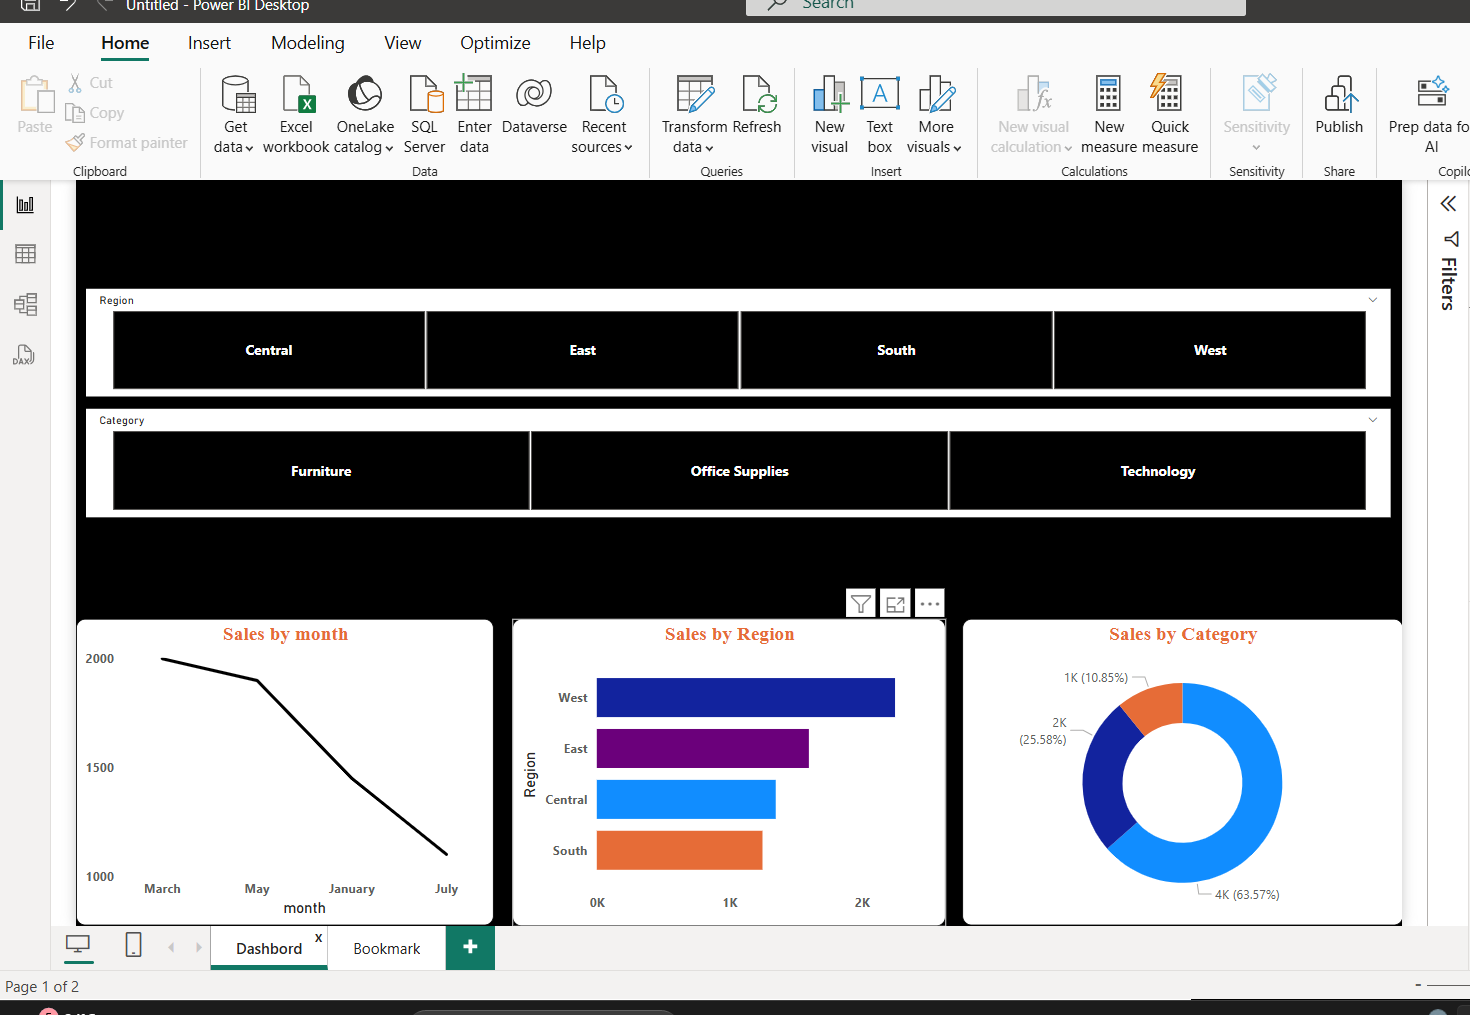

This screenshot's page, from the dashboard's own definition file:
{"tool":"powerbi","page":{"name":"Dashbord","canvas":[1280,720],"ordinal":0},"visuals":[{"type":"lineChart","title":"Sales by month","fields":{"Y":["Sum(Supersale_store.Sales)"],"Category":["Supersale_store.month"]},"box":[0,424,403.4,296.4],"z":0},{"type":"barChart","title":"Sales by Region","fields":{"Category":["Supersale_store.Region"],"Y":["Sum(Supersale_store.Sales)"],"Series":["Supersale_store.Region"]},"box":[421,423.5,418.6,296.8],"z":1000},{"type":"donutChart","title":"Sales by Category","fields":{"Y":["Sum(Supersale_store.Sales)"],"Category":["Supersale_store.Category"],"Series":["Supersale_store.Category"]},"box":[854.9,424,425.4,296.4],"z":2000},{"type":"slicer","fields":{"Values":["Supersale_store.Region"]},"box":[9.7,105,1259.5,103.8],"z":3000},{"type":"slicer","fields":{"Values":["Supersale_store.Category"]},"box":[9.7,220.8,1259.5,105],"z":4000}]}

Visuals, with their boxes on the page's 1280x720 design canvas (x1, y1, x2, y2). These are canvas units, not pixel positions in the 1470x1015 screenshot, which may show the page scaled, cropped or inside an application window:
"Sales by month" lineChart: 0, 424, 403, 720
"Sales by Region" barChart: 421, 424, 840, 720
"Sales by Category" donutChart: 855, 424, 1280, 720
slicer - Supersale_store.Region: 10, 105, 1269, 209
slicer - Supersale_store.Category: 10, 221, 1269, 326
